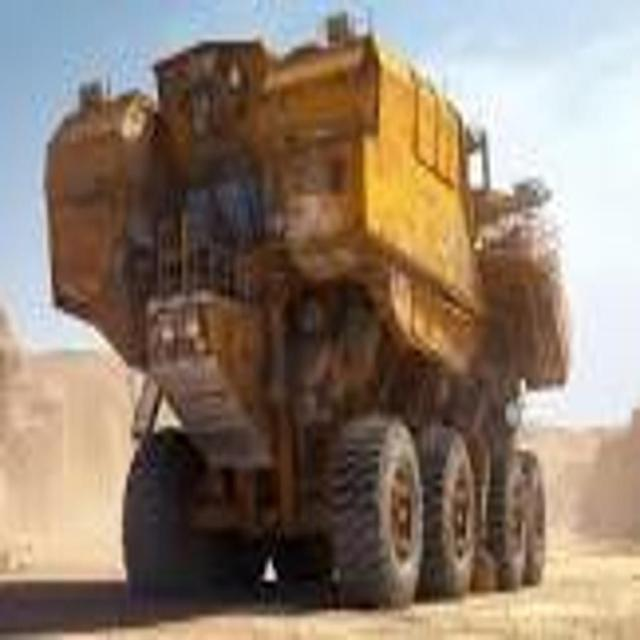dump_truck: (42, 20, 581, 601)
